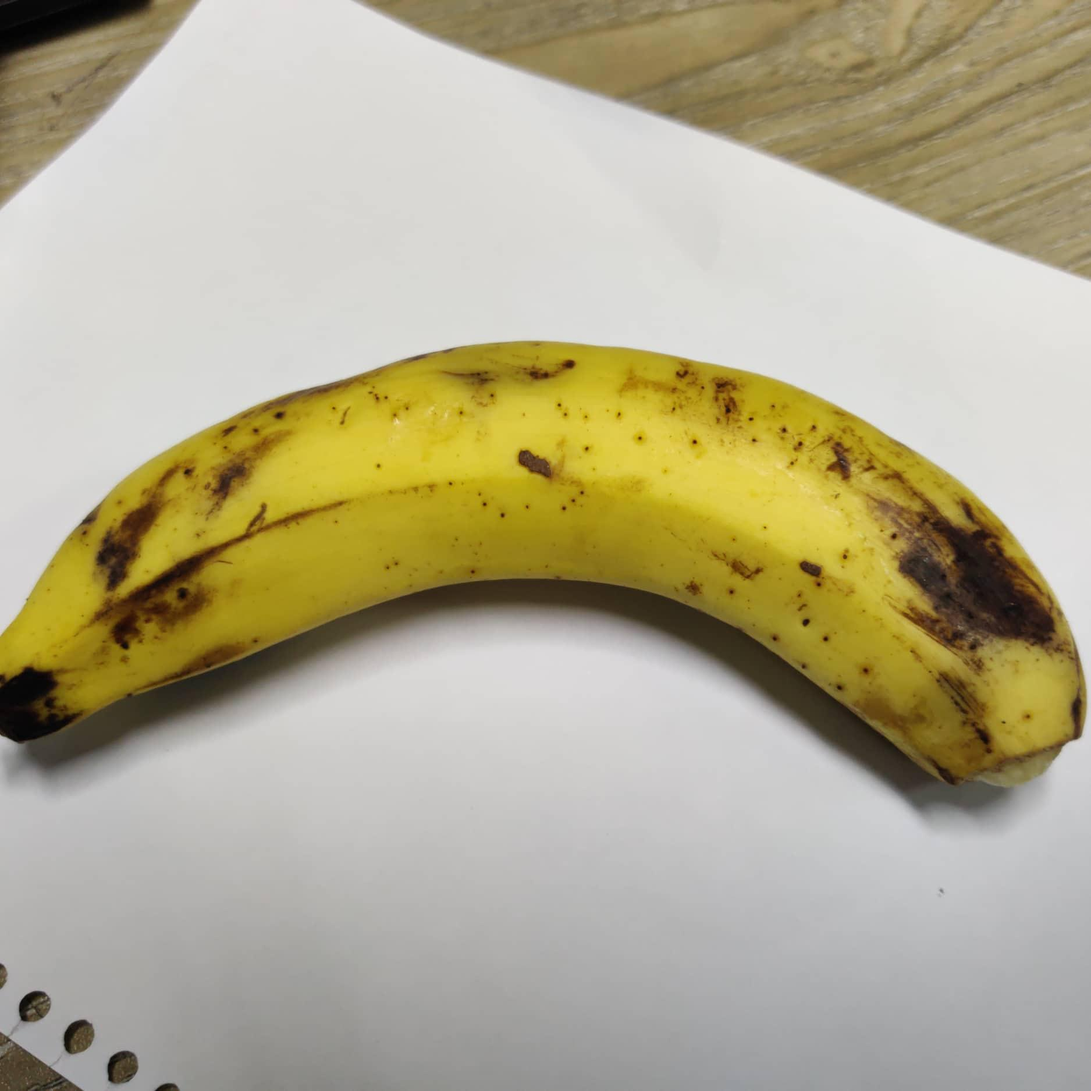Banana Ripe: (1, 334, 1091, 954)
